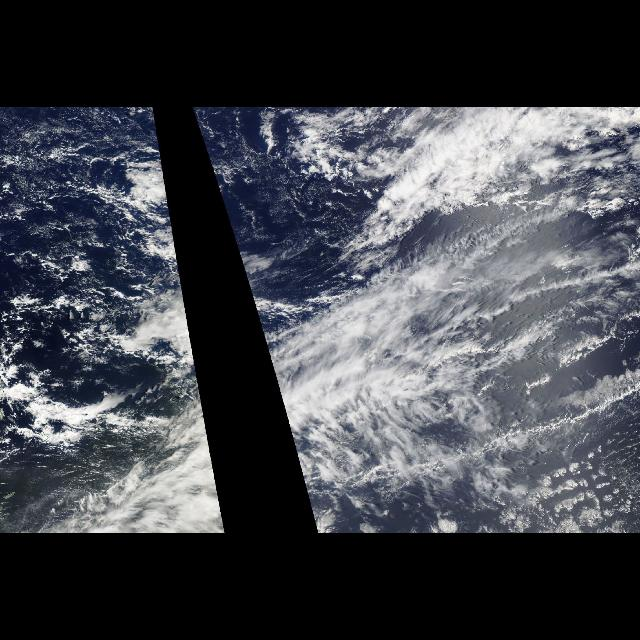Gravel: (0, 108, 148, 322), (210, 108, 342, 242)
